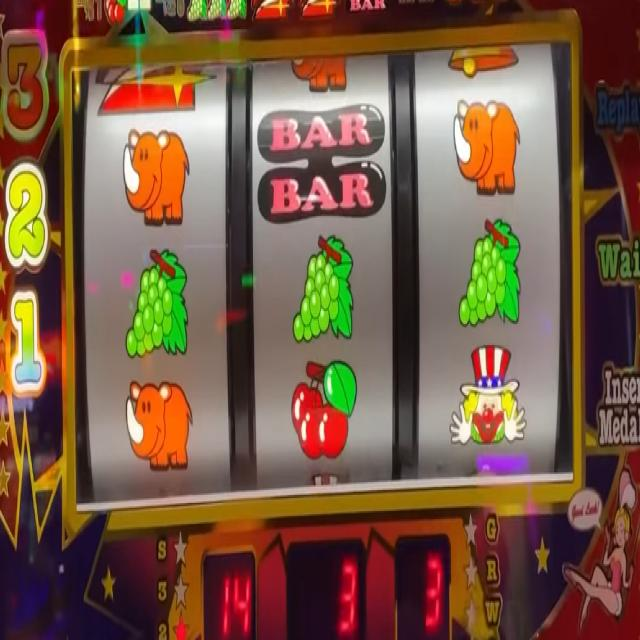bar: (255, 102, 386, 223), (346, 0, 387, 16)
bell: (445, 42, 521, 81)
cherry: (290, 358, 358, 459), (104, 0, 125, 30)
clown: (448, 343, 527, 454)
display: (72, 36, 574, 485)
elephant: (121, 124, 191, 227), (124, 376, 194, 476), (453, 102, 522, 198), (289, 57, 350, 93)
grape: (124, 245, 191, 361), (454, 218, 522, 331), (291, 233, 357, 349), (185, 1, 206, 28), (227, 0, 246, 24), (208, 0, 226, 24)
z: (95, 63, 217, 117), (250, 1, 290, 25), (298, 0, 338, 21)
